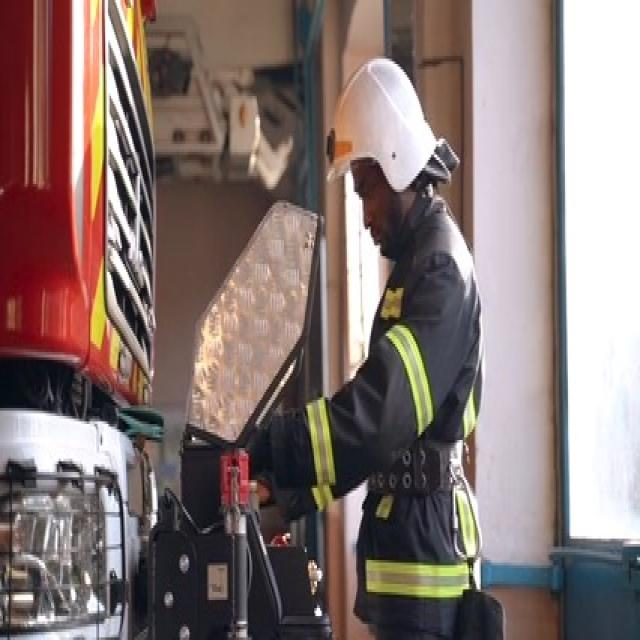Helmet_Wearer: (318, 51, 463, 248)
Jacket_Wearer: (265, 207, 482, 640)
Person: (264, 55, 486, 640)
